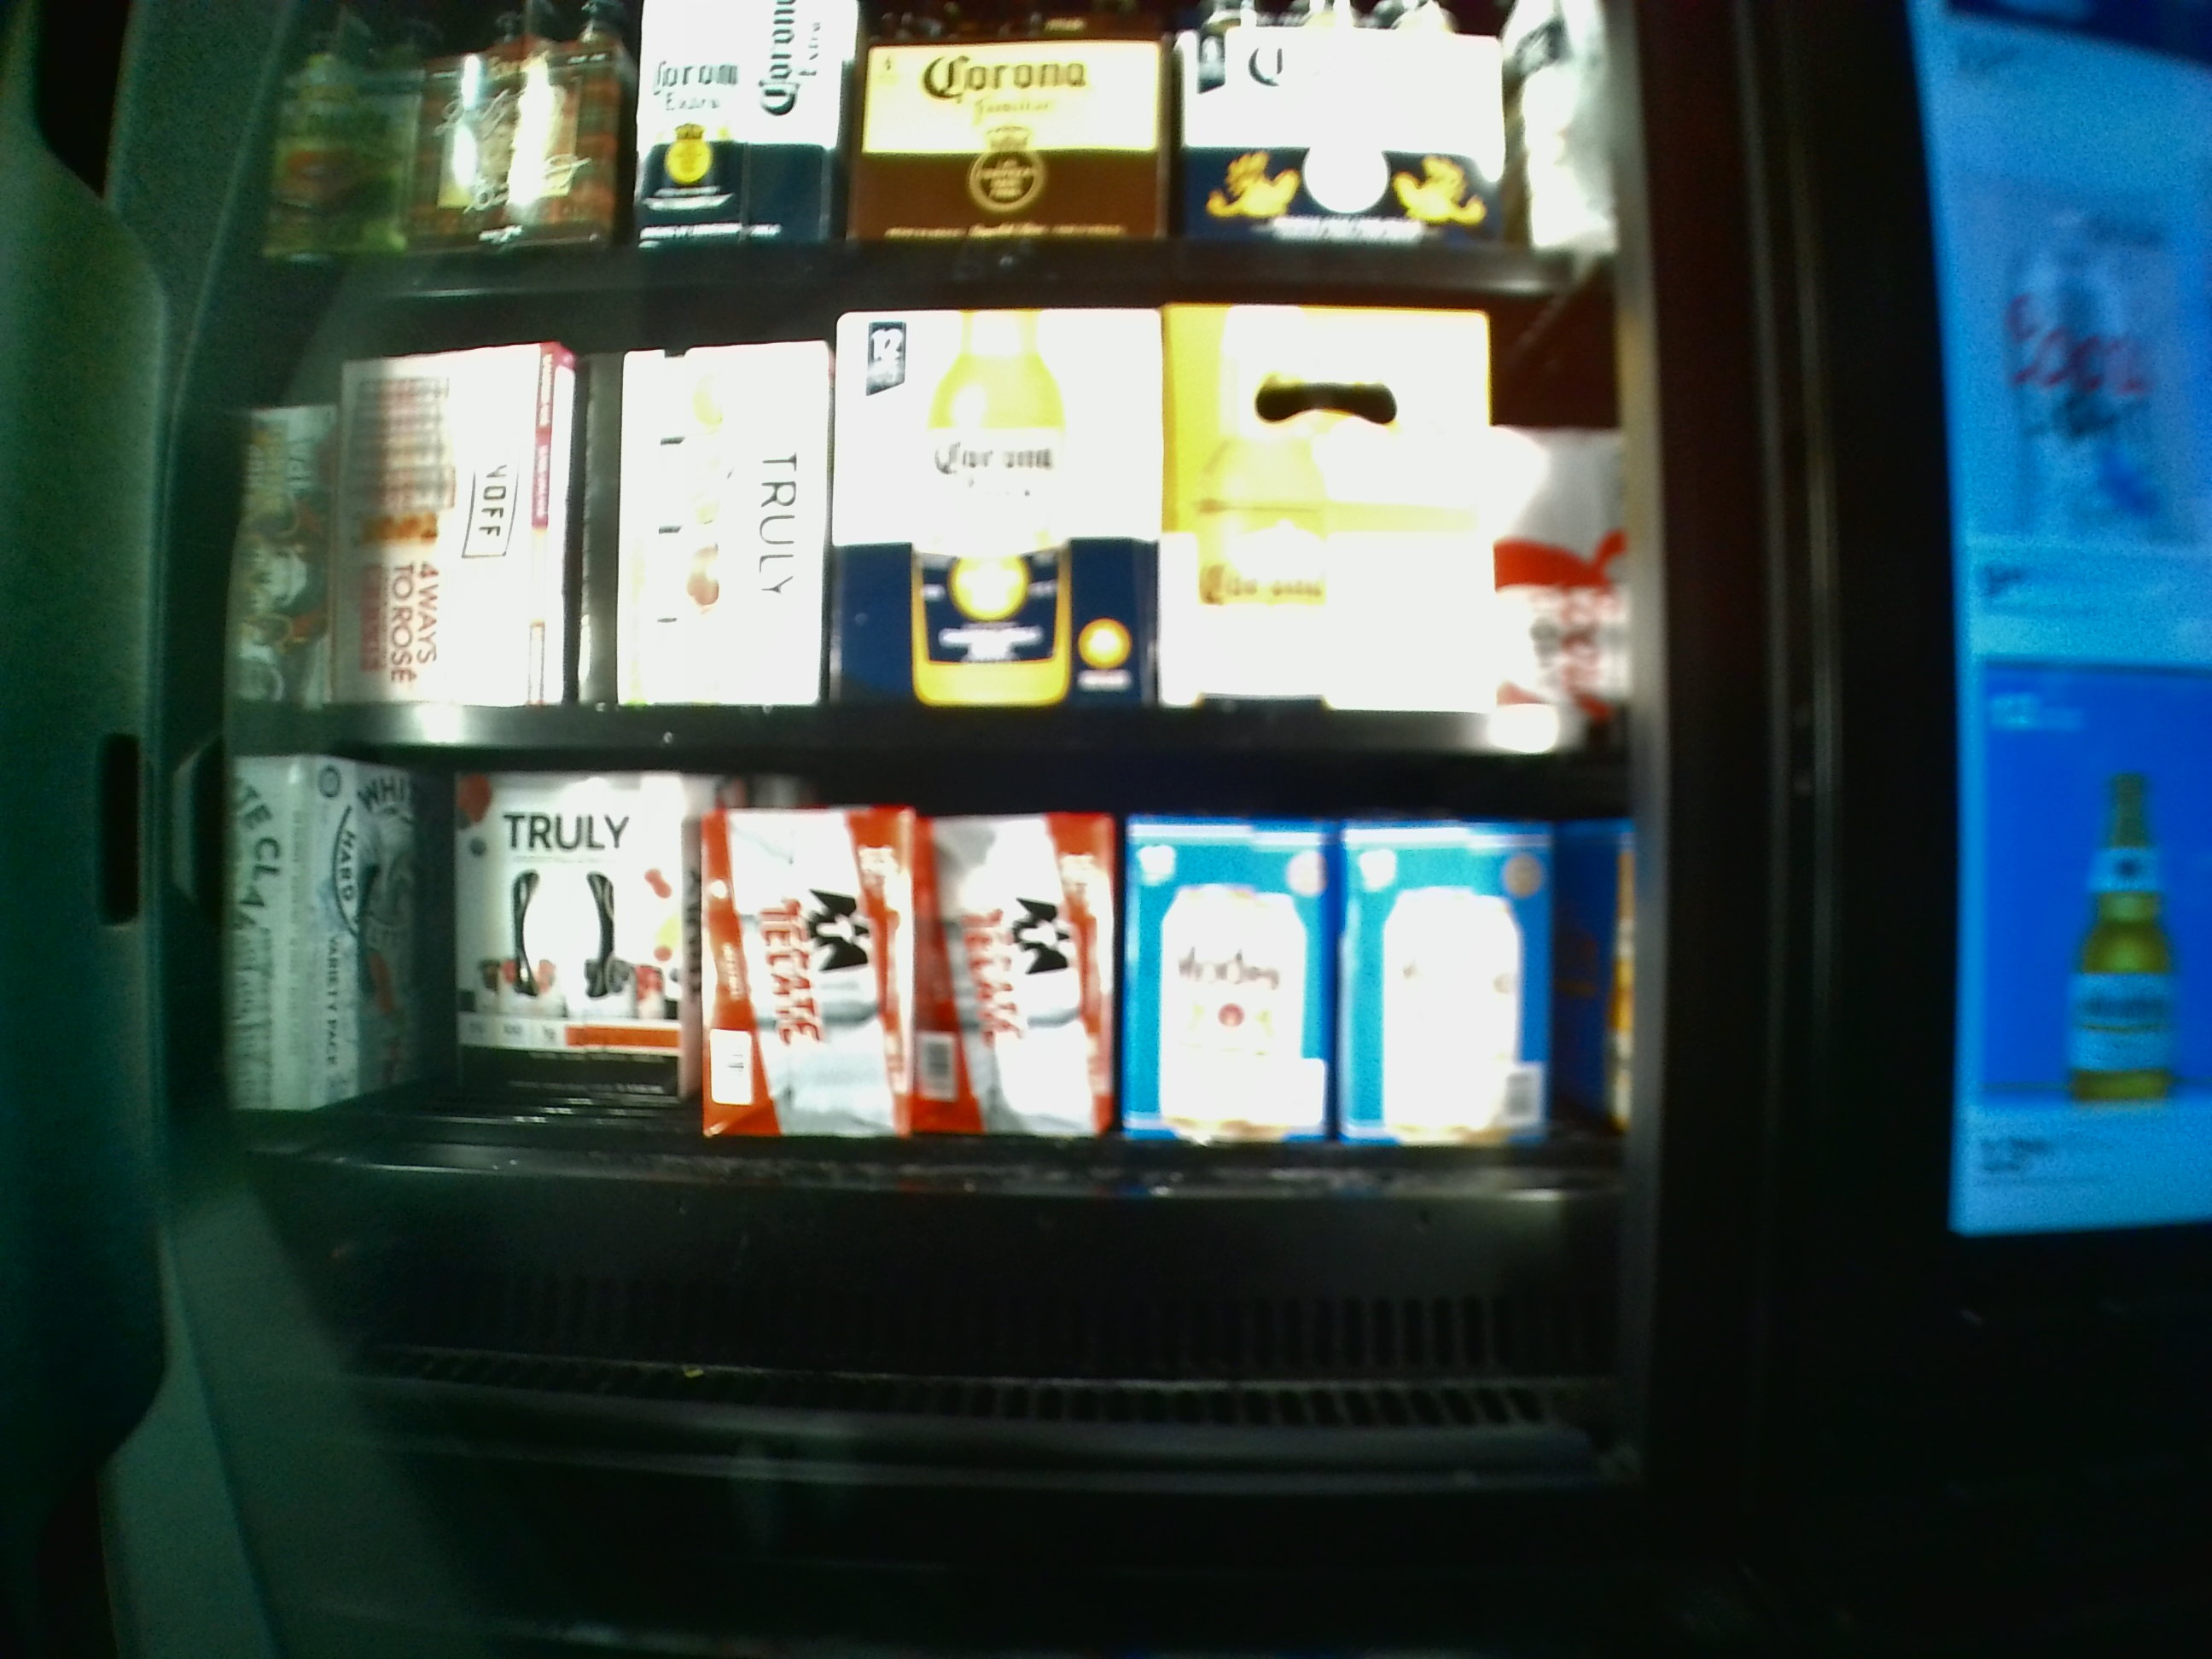shelf: (225, 772, 1623, 1485), (228, 295, 1622, 756)
